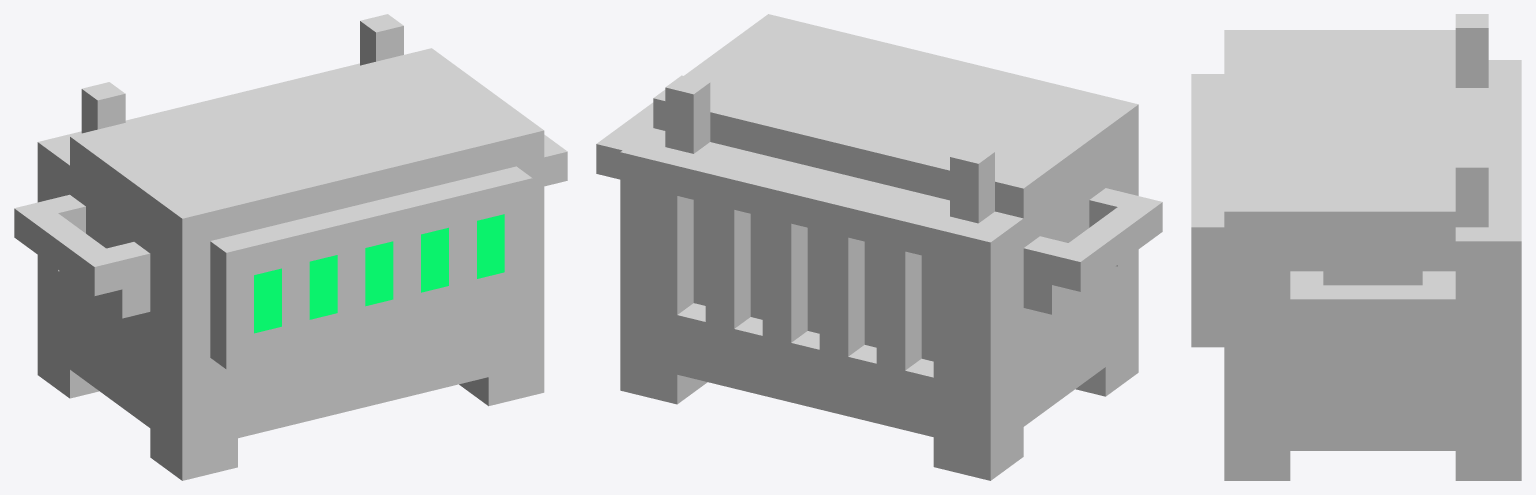
The model's file is BATERIA - copia.glb.
3 renders of one model, left to right at view 1: azimuth 30°, elevation 25°; view 2: azimuth 150°, elevation 25°; view 3: azimuth 270°, elevation 25°, orthographic. The views are drawn at different scales.
Visible parts, largest first — view 1: Bateria_Solar_Voxel; view 2: Bateria_Solar_Voxel; view 3: Bateria_Solar_Voxel.
Part boxes in pixels (x1,y1,x2,y2): Bateria_Solar_Voxel: (14,14,567,480); Bateria_Solar_Voxel: (596,14,1162,480); Bateria_Solar_Voxel: (1191,14,1521,480).
Size of the model in its own units: 1.7 by 1 by 1.
